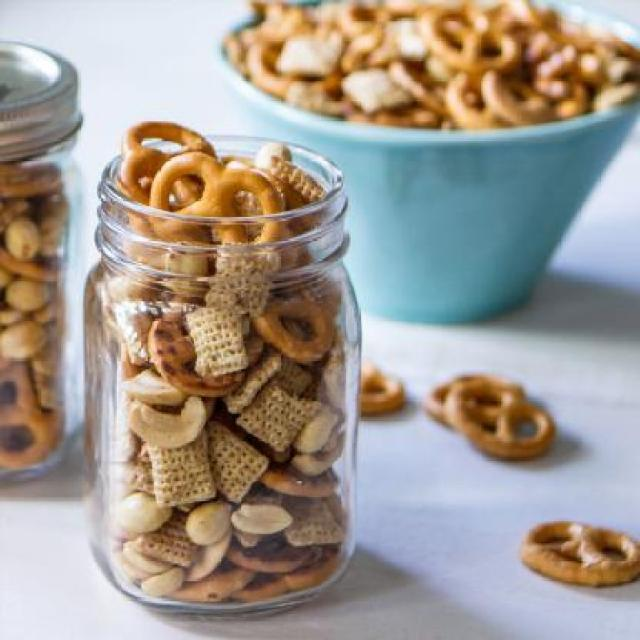Salatini packaged: (77, 111, 355, 608)
